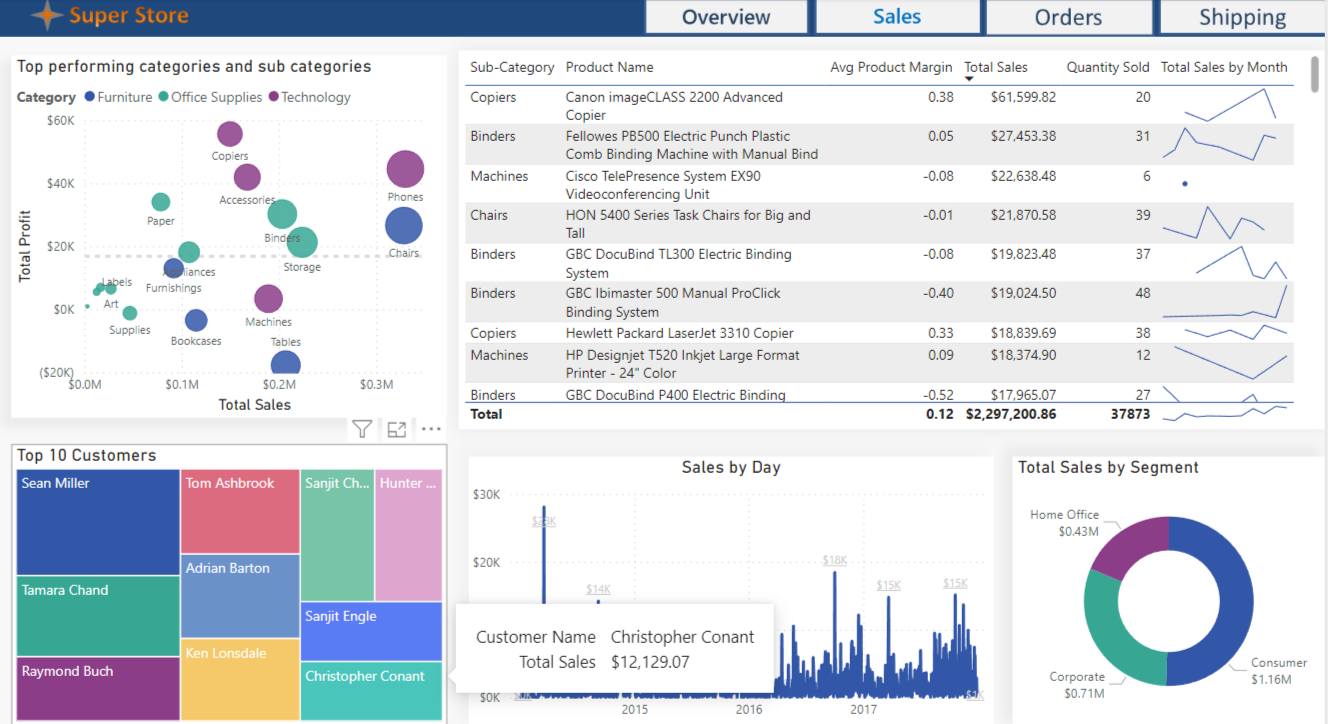

What the dashboard file says about the page in this screenshot:
{"tool":"powerbi","page":{"name":"Sales","canvas":[1280,720],"ordinal":1},"visuals":[{"type":"scatterChart","title":"Top performing categories and sub categories","fields":{"Size":["Financial Measures.Total Sales"],"Series":["Orders.Category"],"Category":["Orders.Sub-Category"],"X":["Financial Measures.Total Sales"],"Y":["Financial Measures.Total Profit"]},"box":[12.1,55.5,420.9,349.7],"z":0},{"type":"donutChart","fields":{"Y":["Financial Measures.Total Sales"],"Series":["Orders.Segment"]},"box":[978.1,442.6,301.5,260.5],"z":1000},{"type":"lineChart","title":"Sales by Day","fields":{"Y":["Financial Measures.Total Sales"],"Category":["Orders.Order Date.Variation.Date Hierarchy.Year","Orders.Order Date.Variation.Date Hierarchy.Month","Orders.Order Date.Variation.Date Hierarchy.Day"]},"box":[453.5,442.6,506.5,260.5],"z":2000},{"type":"tableEx","fields":{"Values":["Orders.Sub-Category","Orders.Product Name","Orders.Product Margin","Financial Measures.Total Sales","Financial Measures.Quantity Sold","SparklineData(Financial Measures.Total Sales_[Orders.Order Date.Variation.Date Hierarchy.Month])"]},"box":[443.8,50.7,835.8,365.4],"z":7000},{"type":"treemap","title":"Top 10 Customers ","fields":{"Values":["Financial Measures.Total Sales"],"Group":["Orders.Customer Name"]},"box":[12.1,430.6,420.9,272.6],"z":8000}]}

Visuals, with their boxes on the page's 1280x720 design canvas (x1, y1, x2, y2). These are canvas units, not pixel positions in the 1328x724 screenshot, which may show the page scaled, cropped or inside an application window:
"Top performing categories and sub categories" scatterChart: <box>12,56,433,405</box>
donutChart - Financial Measures.Total Sales x Orders.Segment: <box>978,443,1280,703</box>
"Sales by Day" lineChart: <box>454,443,960,703</box>
tableEx - Orders.Sub-Category x Orders.Product Name: <box>444,51,1280,416</box>
"Top 10 Customers " treemap: <box>12,431,433,703</box>
